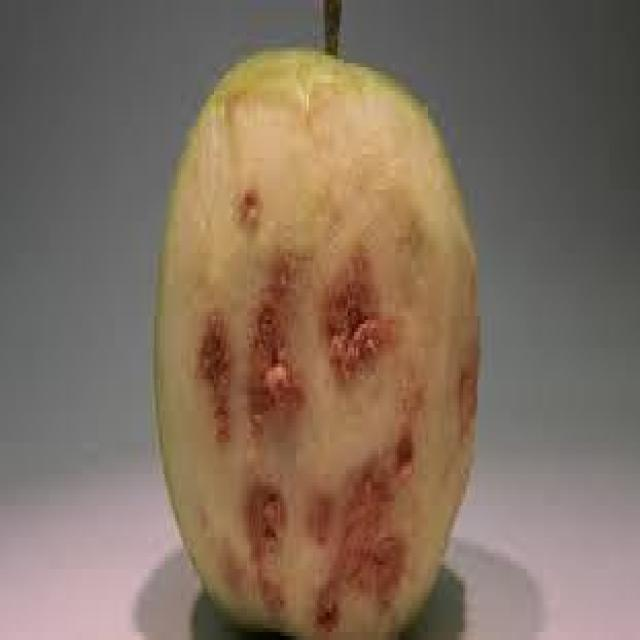maca: (150, 40, 480, 636)
